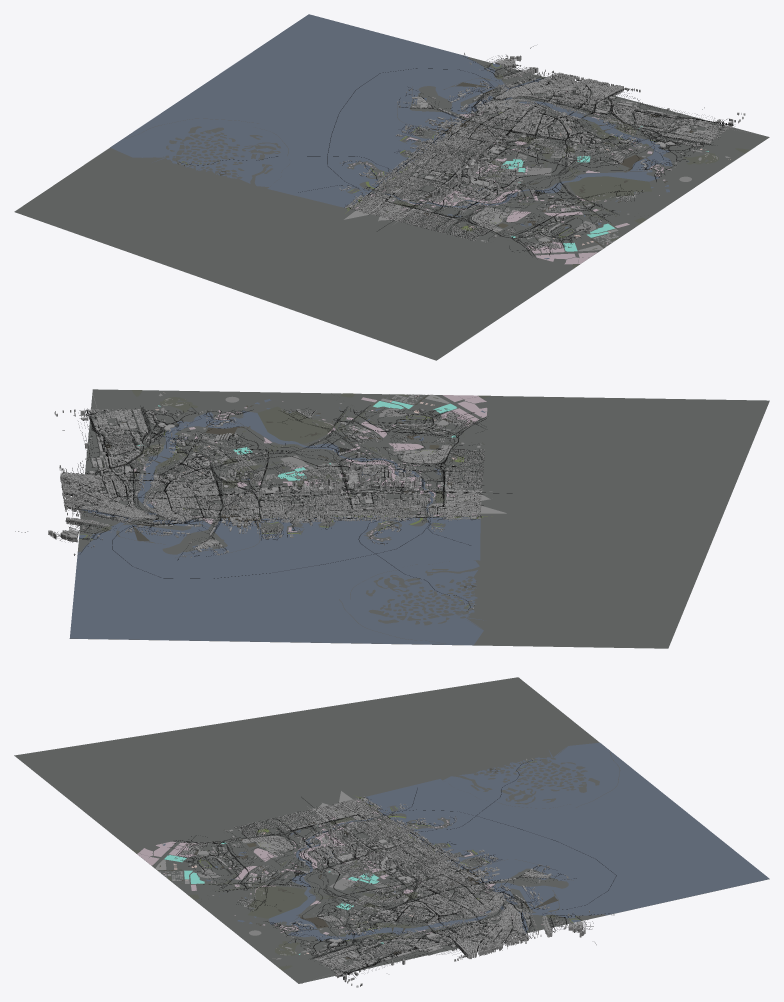
The model's file is Dubai_Im_piece_1.glb.
The picture shows the model from 3 angles, top to bottom: view 1: azimuth 30°, elevation 25°; view 2: azimuth 150°, elevation 25°; view 3: azimuth 270°, elevation 25°; orthographic projection. The views are drawn at different scales.
Parts seen in each view (by area): view 1: land, Build_1, road, Build_2; view 2: land, Build_1, road, Build_2; view 3: land, Build_1, road, Build_2.
Boxes of the visible parts, x1,y1,x2,y2 form: land: (14,14,769,360); Build_1: (179,56,733,248); road: (180,46,733,255); Build_2: (183,52,745,259); land: (69,389,769,648); Build_1: (48,409,484,608); road: (15,405,512,609); Build_2: (49,408,486,605); land: (14,677,769,983); Build_1: (179,758,585,980); road: (169,760,616,977); Build_2: (162,759,614,987).
Bounding box in the file's own units: 323 × 11.72 × 333.
